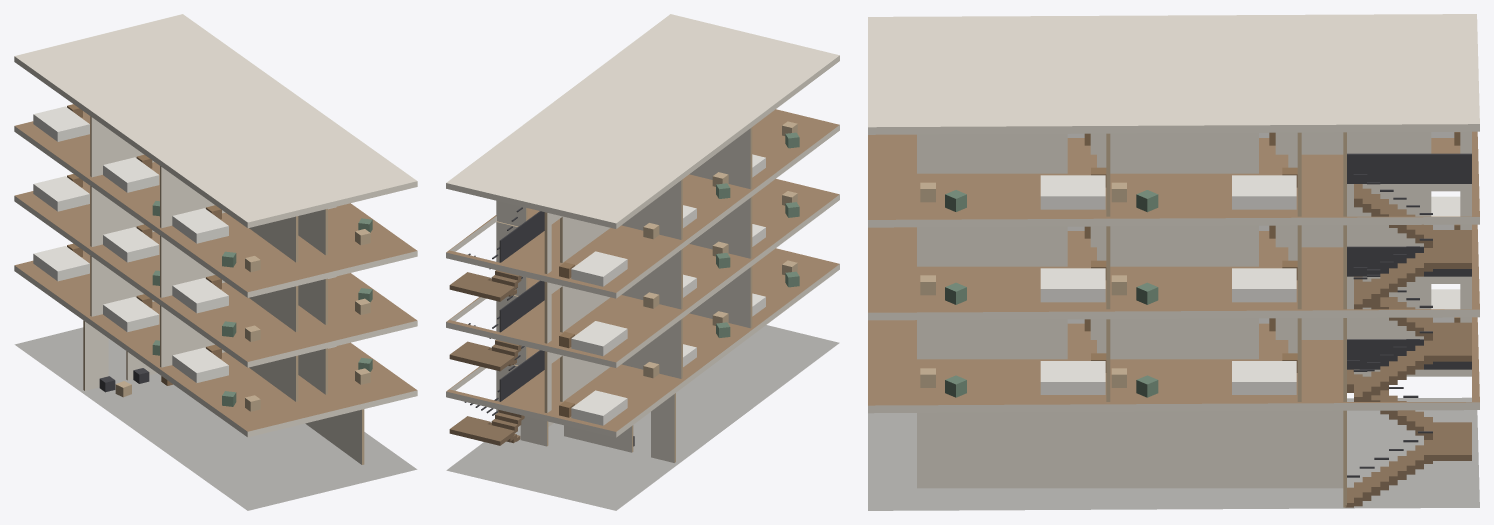
File: interior.glb
3 renders of one model, left to right at view 1: azimuth 30°, elevation 25°; view 2: azimuth 150°, elevation 25°; view 3: azimuth 270°, elevation 25°, orthographic. The views are drawn at different scales.
Parts seen in each view (by area): view 1: slabs, partitions, coarse-s3, coarse-s2, coarse-s1, coarse-s0; view 2: slabs, partitions, stair, coarse-s1, coarse-s2, coarse-s3; view 3: slabs, partitions, stair, coarse-s2, coarse-s1, coarse-s3.
Part boxes in pixels (left/top/right/bottom): slabs: left=14, top=14, right=417, bottom=510; partitions: left=83, top=116, right=364, bottom=464; coarse-s3: left=33, top=104, right=372, bottom=272; coarse-s2: left=33, top=174, right=372, bottom=341; coarse-s1: left=33, top=243, right=372, bottom=411; coarse-s0: left=99, top=368, right=172, bottom=397; slabs: left=446, top=14, right=839, bottom=510; partitions: left=496, top=127, right=752, bottom=462; stair: left=449, top=207, right=544, bottom=445; coarse-s1: left=559, top=260, right=799, bottom=425; coarse-s2: left=559, top=191, right=799, bottom=356; coarse-s3: left=559, top=121, right=799, bottom=286; slabs: left=868, top=14, right=1479, bottom=510; partitions: left=917, top=131, right=1471, bottom=507; stair: left=1345, top=153, right=1471, bottom=507; coarse-s2: left=920, top=196, right=1460, bottom=304; coarse-s1: left=920, top=289, right=1460, bottom=397; coarse-s3: left=920, top=132, right=1460, bottom=212.
Size of the model in its own units: 8.25 by 13.05 by 18.83.
